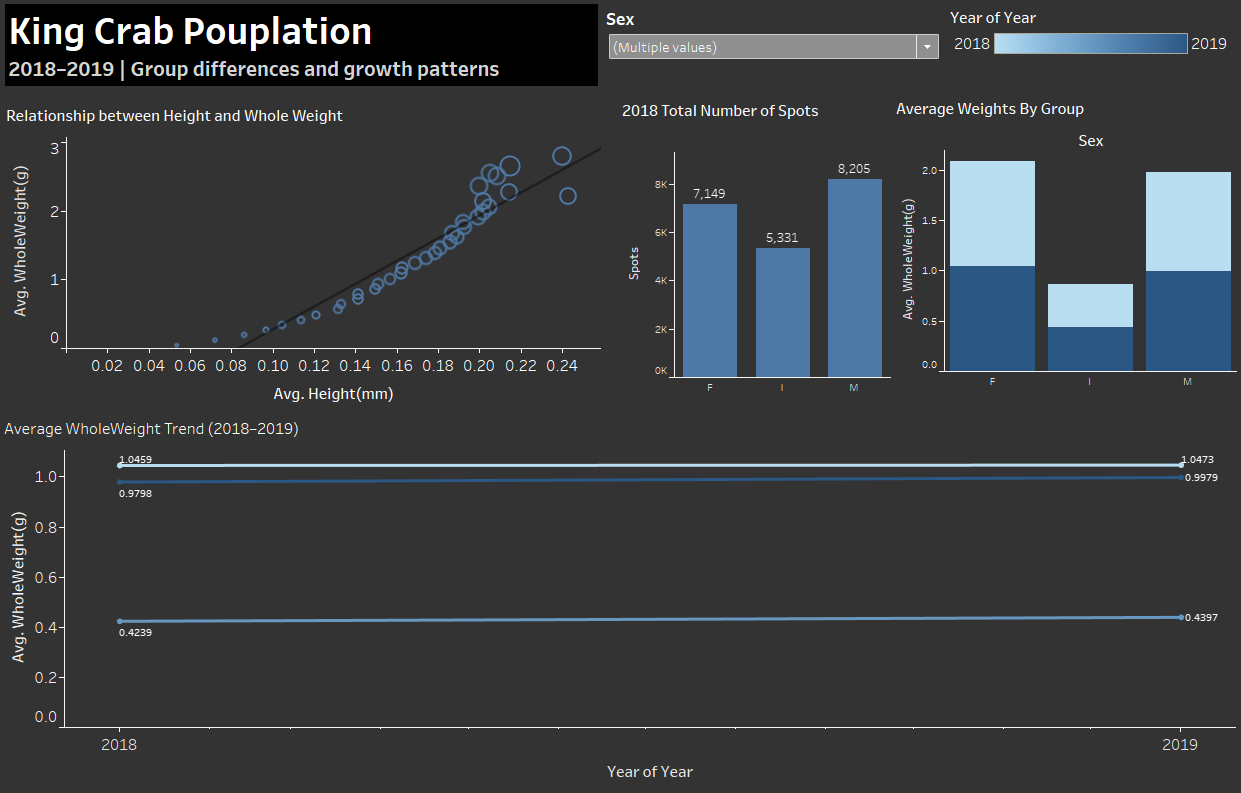

This screenshot's page, from the dashboard's own definition file:
{"tool":"tableau","page":{"name":"King Crab Dashboard","canvas":[1300,850],"ordinal":0},"visuals":[{"type":"text","box":[30,28,601,90]},{"type":"filter","title":"Average Weights By Group","param":"[federated.1mauefw0cniggs12ucpn51f01juo].[none:Sex:nk]","box":[631,31,344,83]},{"type":"legend","title":"Average Weights By Group","param":"[federated.1mauefw0cniggs12ucpn51f01juo].[tyr:Year:qk]","box":[975,31,290,83]},{"type":"dashboard-object","box":[1236,33,24,24]},{"type":"worksheet","title":"Average Weights By Group","mark":"Automatic","rows":["WholeWeight(g)"],"cols":["Sex"],"box":[921,122,345,298]},{"type":"worksheet","title":"2018 Total Number of Spots","mark":"Automatic","rows":["Spots"],"cols":["Sex"],"box":[647,124,273,301]},{"type":"worksheet","title":"Relationship between Height and Whole Weight","mark":"Automatic","rows":["WholeWeight(g)"],"cols":["Height(mm)"],"box":[31,129,599,310]},{"type":"worksheet","title":"Average WholeWeight Trend (2018–2019)","mark":"Automatic","rows":["WholeWeight(g)"],"cols":["Year"],"box":[29,442,1236,375]}]}

Visuals, with their boxes in screenshot pixels (x1, y1, x2, y2), scaled from the page's 1300x850 canvas onto the 1241x793 screenshot:
text: [29, 26, 602, 110]
"Average Weights By Group" filter: [602, 29, 931, 106]
"Average Weights By Group" legend: [931, 29, 1208, 106]
dashboard-object: [1180, 31, 1203, 53]
"Average Weights By Group" worksheet: [879, 114, 1209, 392]
"2018 Total Number of Spots" worksheet: [618, 116, 878, 396]
"Relationship between Height and Whole Weight" worksheet: [30, 120, 601, 410]
"Average WholeWeight Trend (2018–2019)" worksheet: [28, 412, 1208, 762]
